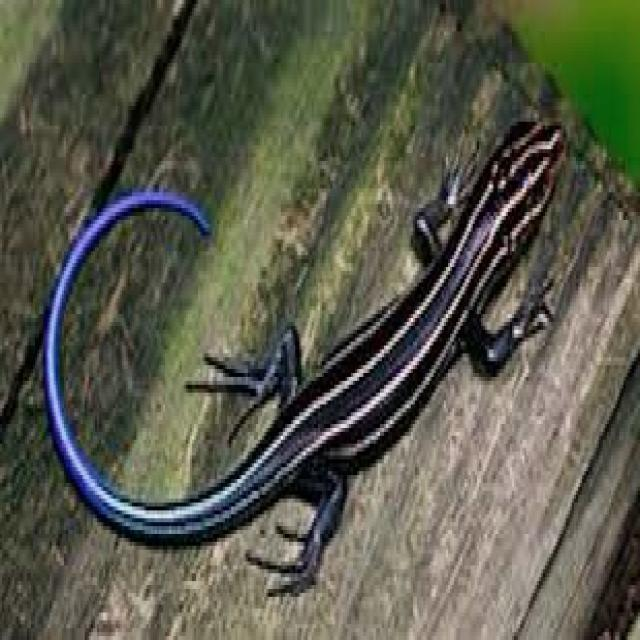lizard: (41, 122, 564, 593)
